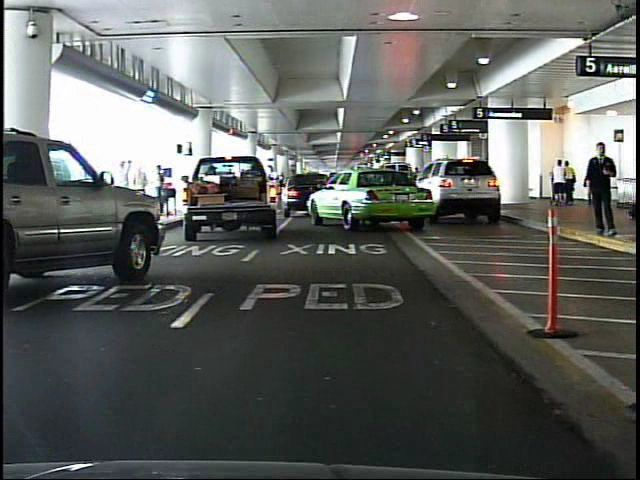person: (586, 138, 623, 243), (154, 160, 175, 202), (552, 157, 567, 206), (564, 158, 578, 209)
